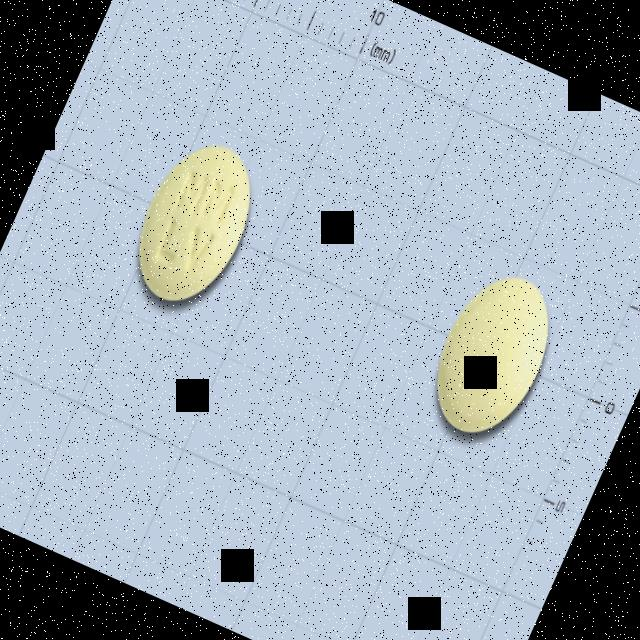Levofuracin: (116, 126, 274, 320)
